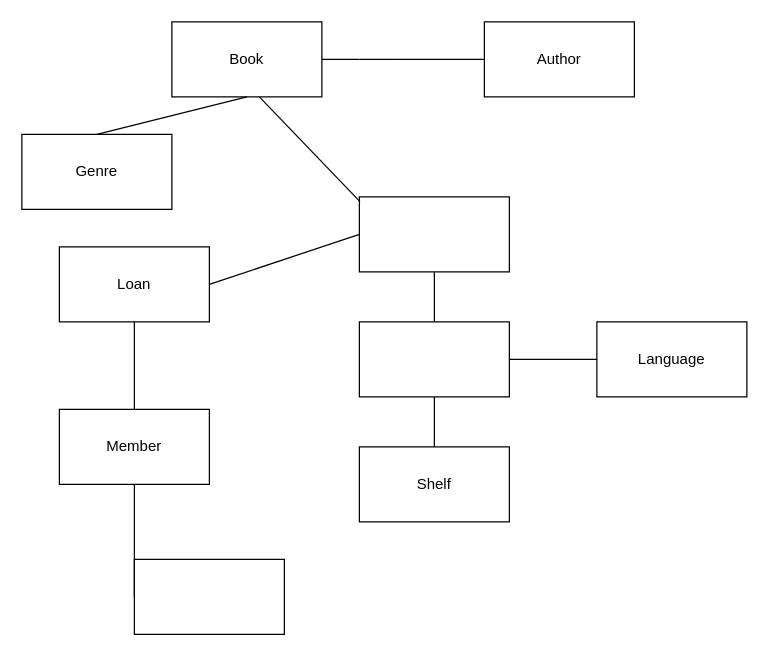
Image size: 769x656. Some labels were removed from this diagram. Each missing label, with the box of its shape:
Branch: (358, 321, 509, 397)
Copy: (358, 196, 509, 272)
MemberProfile: (133, 558, 284, 634)
